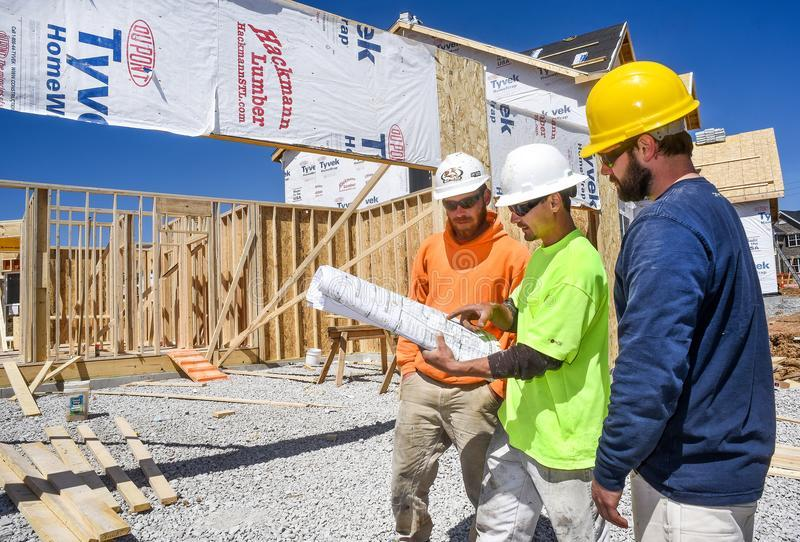helmet: (582, 62, 699, 156), (495, 144, 586, 210), (435, 154, 491, 197)
